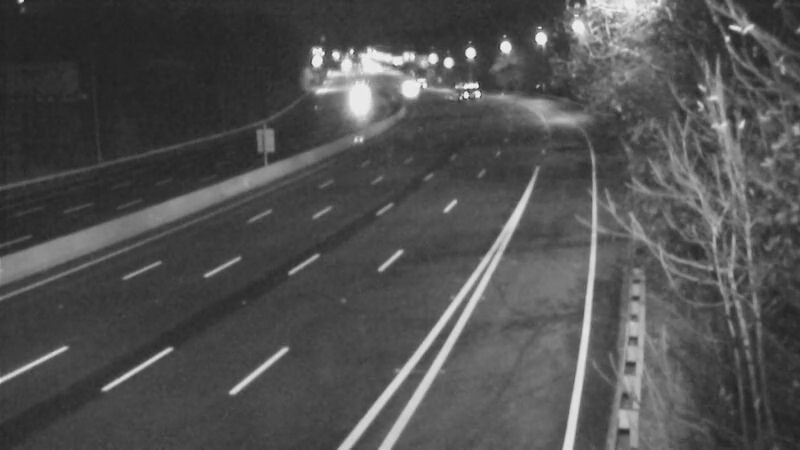vehicle: (388, 58, 438, 108), (436, 62, 486, 112), (389, 66, 439, 116), (332, 79, 382, 129)
